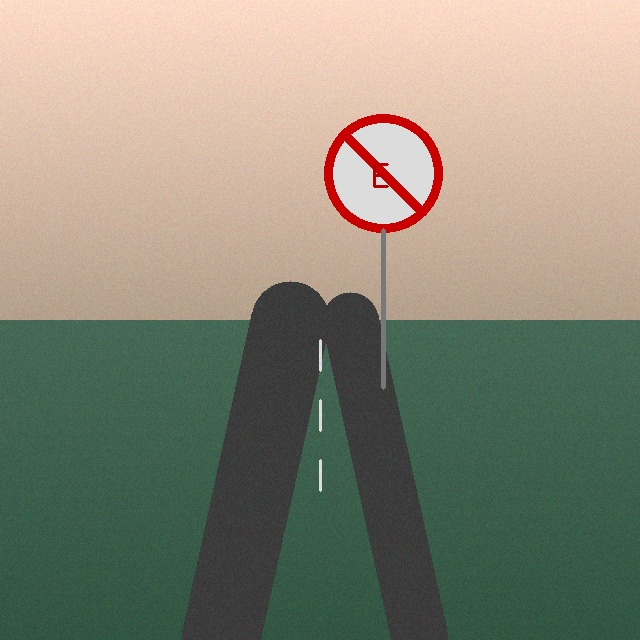no_estacionar: (326, 116, 440, 230)
